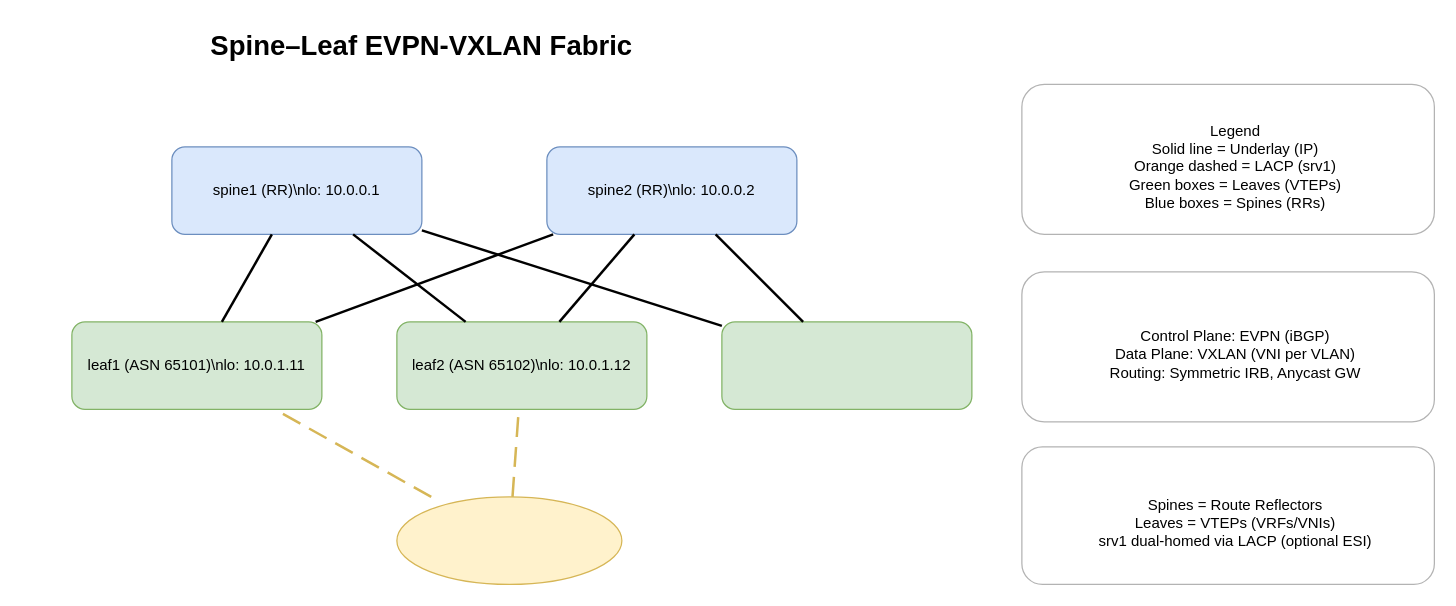
Some shapes in this 1456 by 606 pixel diagram are drawn without their labels. The box of each missing label's shape, as (x1, y1, x2, y2) in pixels:
leaf3 (ASN 65103)\nlo: 10.0.1.13: (721, 321, 972, 409)
srv1 (bond0.10 → VLAN10)\n10.10.10.11/24: (396, 496, 622, 584)
